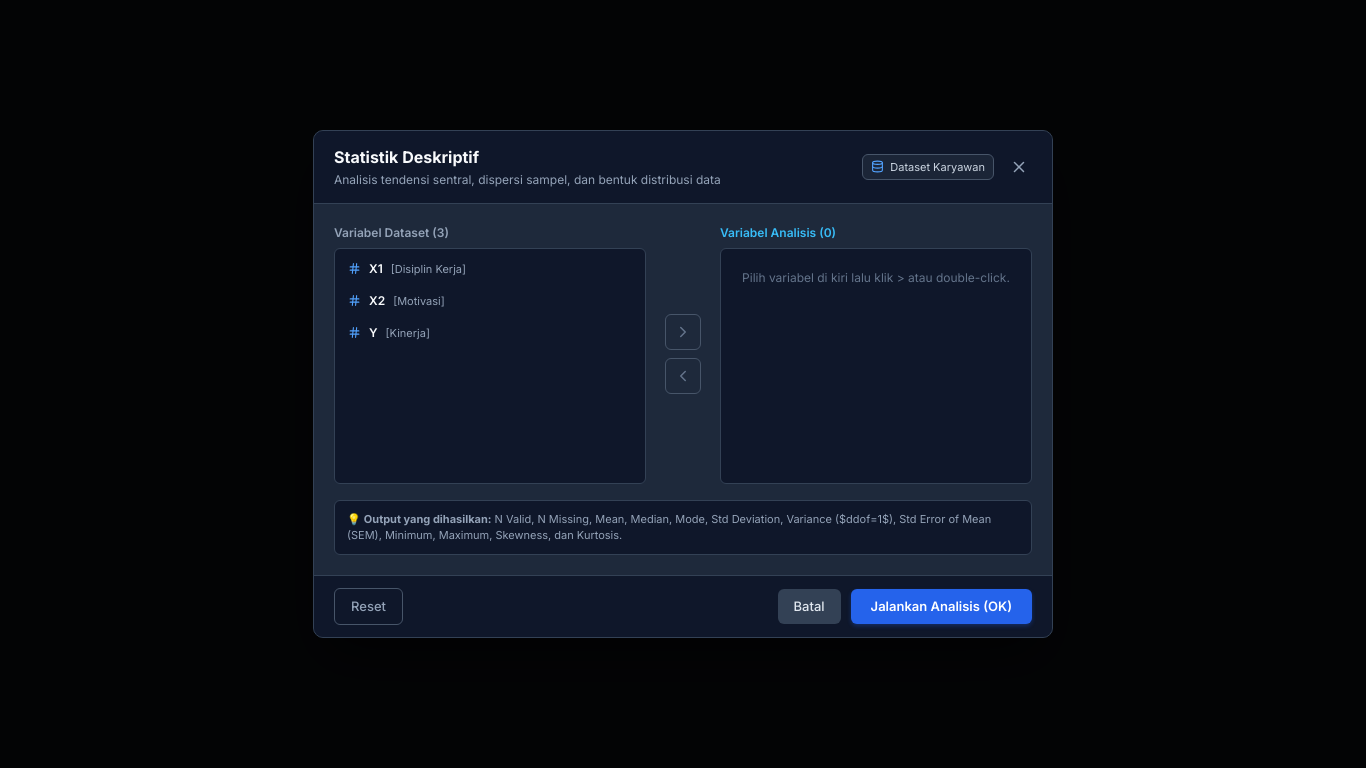
DescriptiveDialog Component › menolak eksekusi jika belum ada variabel yang dipilih
Click the button "Jalankan Analisis (OK)" at point(941, 607), box [851,589,1032,624]
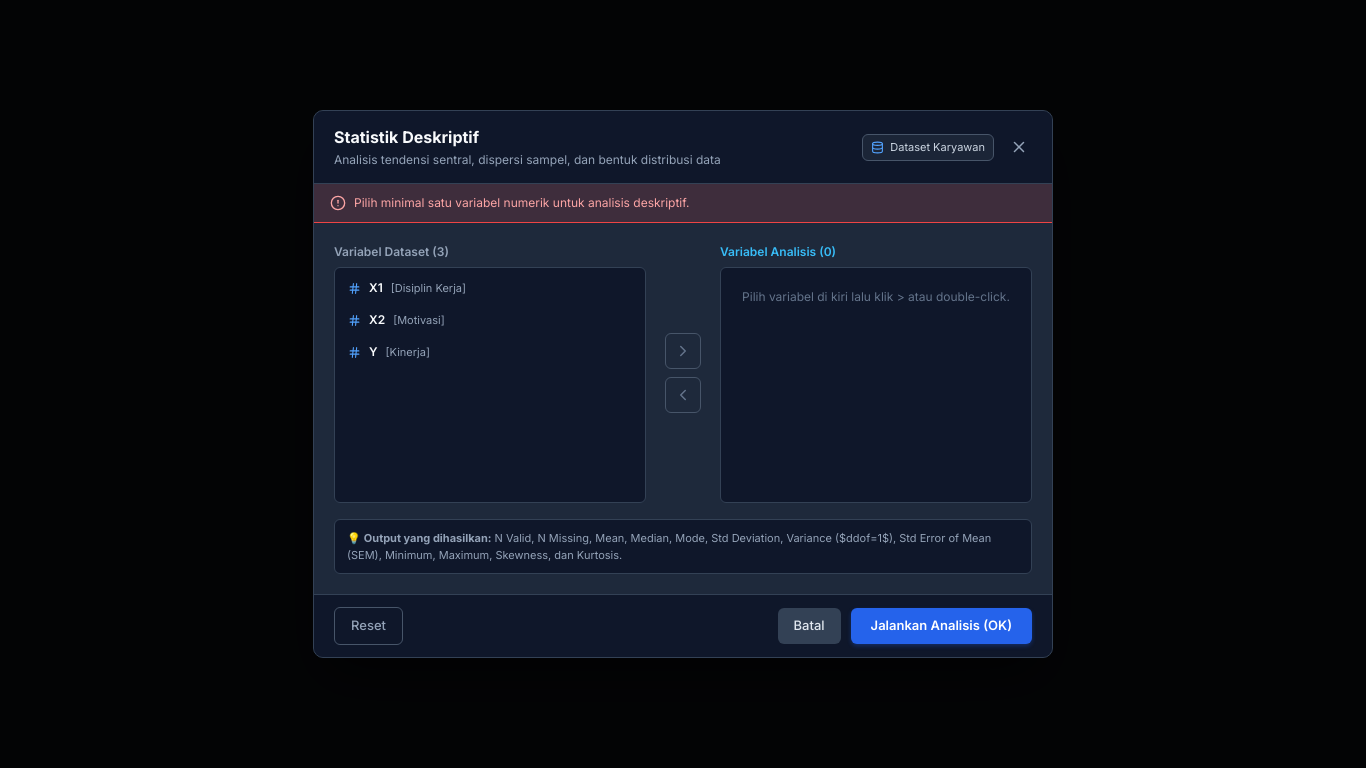
Expected: the text "Pilih minimal satu variabel numerik" is shown, [354,195,690,210]
